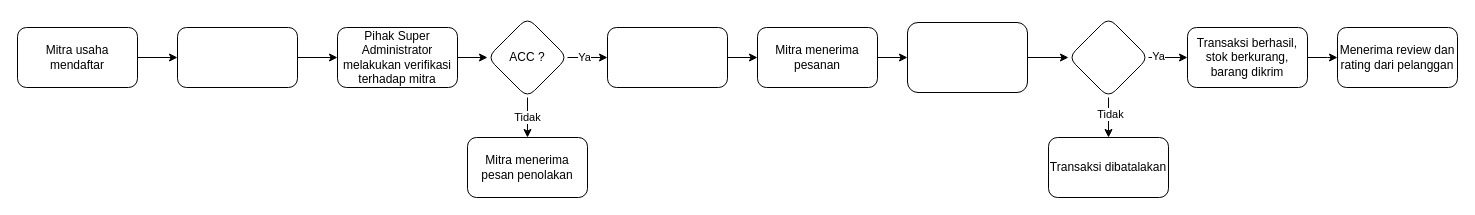
Some shapes in this 1475 by 215 pixel diagram are drawn without their labels. Here are the shapes that lost their labels. From the top down, the box of each, then its label:
(176, 26, 298, 88): Mengisi data mitra, disertai foto usaha dan foto identitas pemilik
(606, 26, 728, 88): Mitra memposting produk usaha
(906, 22, 1028, 92): Memberitahu rekening dan biaya produk + ongkos kirim dan tunggu 1x24 Jam
(1068, 16, 1148, 98): Menerima Uang?
